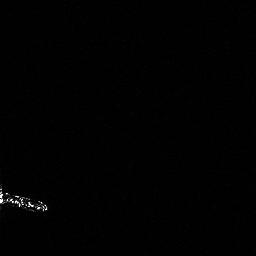ship: (1, 180, 51, 216)
